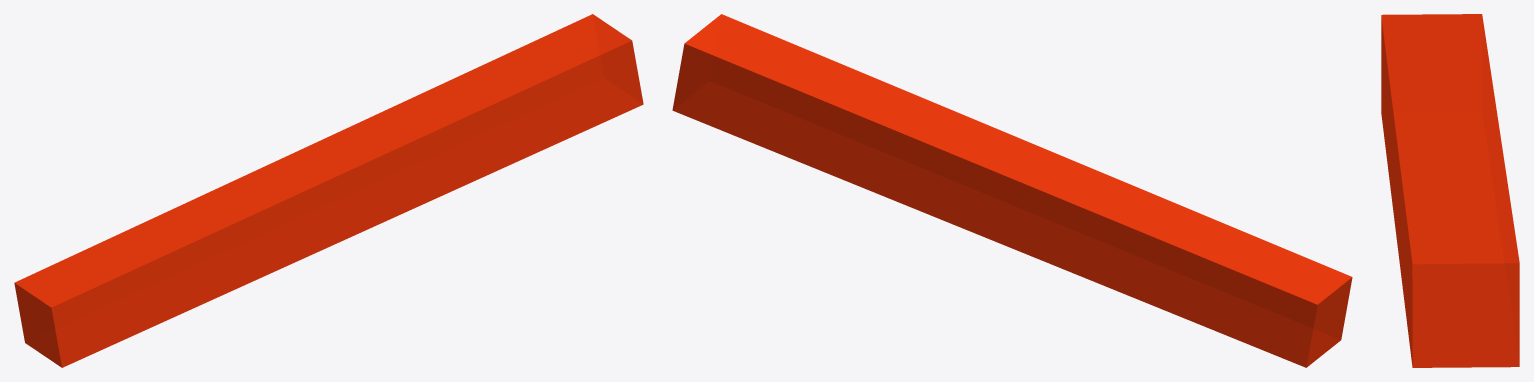
The model's file is Event_420107950_EErechit_35.fbx.
3 views of the same model, side by side, from view 1: azimuth 30°, elevation 25°; view 2: azimuth 150°, elevation 25°; view 3: azimuth 270°, elevation 25° (orthographic). The views are drawn at different scales.
Visible parts, largest first — view 1: Model; view 2: Model; view 3: Model.
Boxes of the visible parts, <box> form: Model: <box>14,14,643,367</box>; Model: <box>672,14,1352,367</box>; Model: <box>1381,14,1519,367</box>.
Size of the model in its own units: 0.7192 by 0.2022 by 0.0995.
